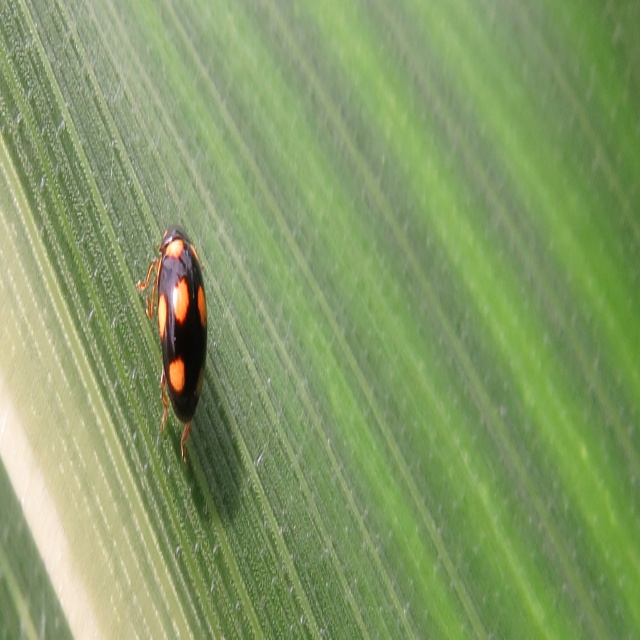Ladybug: (144, 227, 206, 469)
